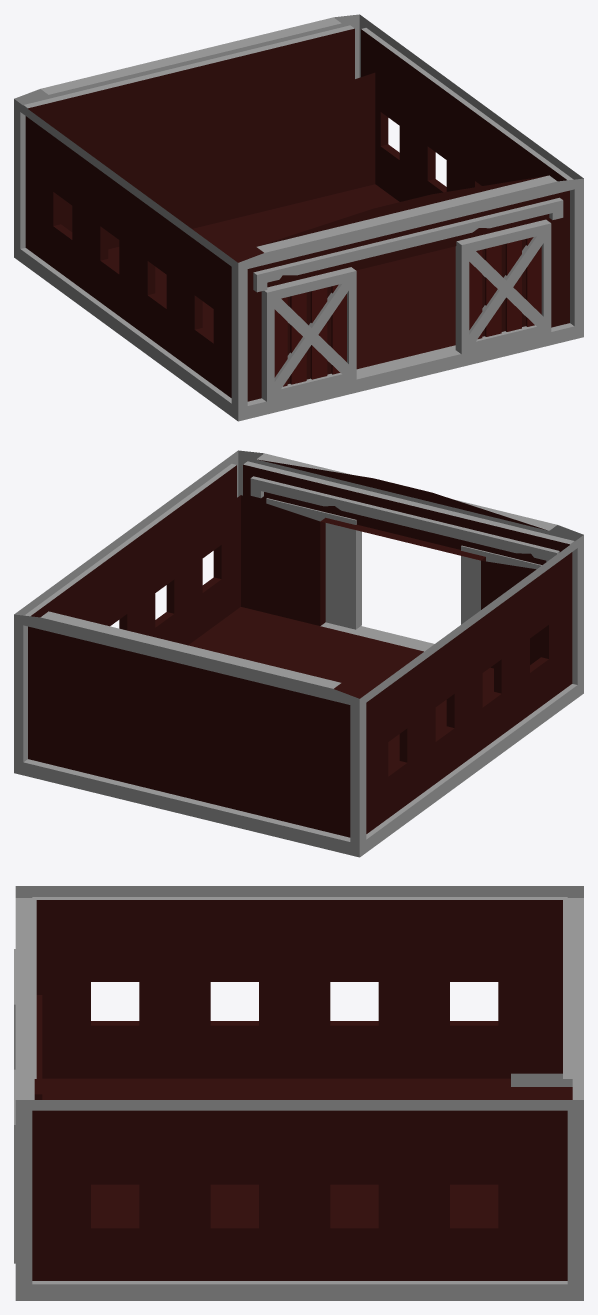
The model's file is BigBarnEDITED.FBX.
The picture shows the model from 3 angles, top to bottom: view 1: azimuth 30°, elevation 25°; view 2: azimuth 150°, elevation 25°; view 3: azimuth 270°, elevation 25°; orthographic projection. The views are drawn at different scales.
Parts seen in each view (by area): view 1: BigBarn, BigBarn_Door, BigBarn_Door2; view 2: BigBarn, BigBarn_Door, BigBarn_Door2; view 3: BigBarn.
Boxes of the visible parts, x1,y1,x2,y2 form: BigBarn: (14,14,583,421); BigBarn_Door: (455,219,551,354); BigBarn_Door2: (261,267,356,401); BigBarn: (14,450,583,857); BigBarn_Door: (266,498,361,629); BigBarn_Door2: (461,545,541,624); BigBarn: (15,886,583,1300).
Bounding box in the file's own units: 711 × 337 × 800.
